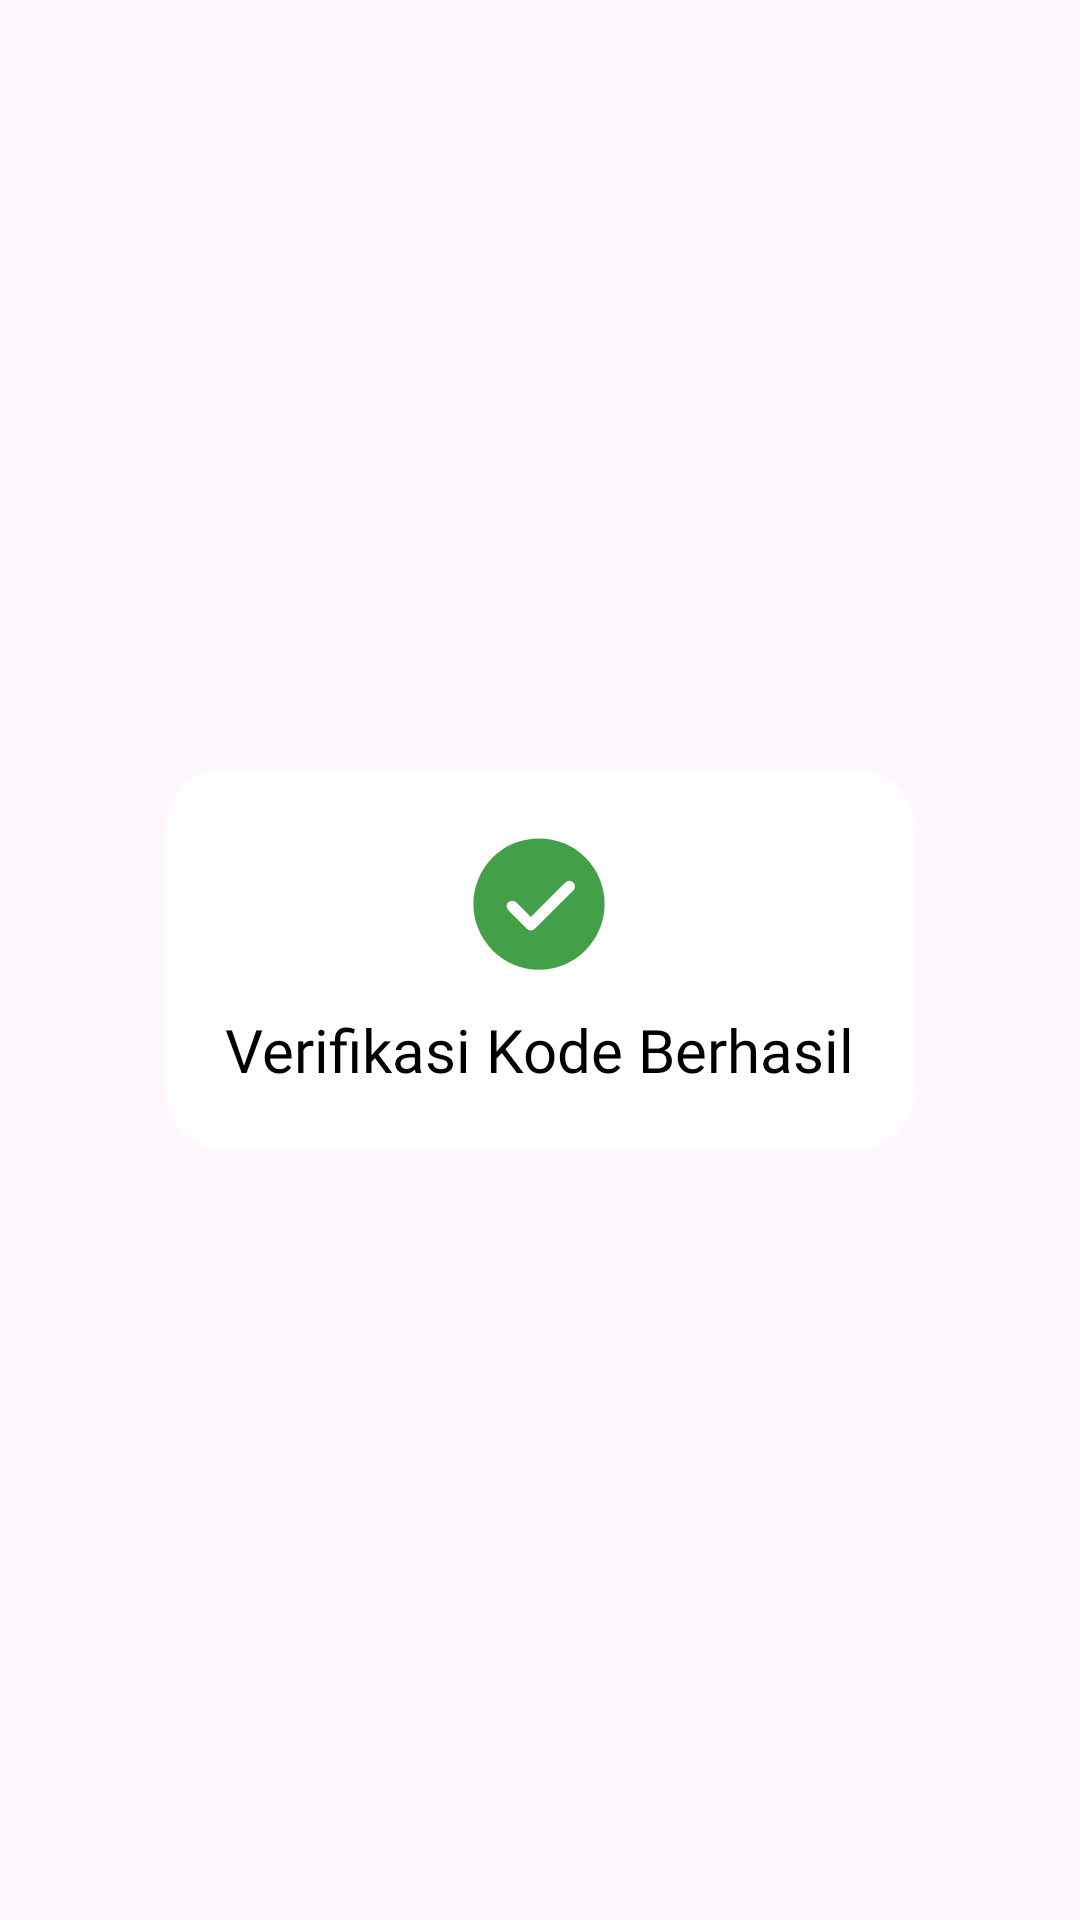

Icons on this 1080*1920 Android screen, each with the point to tap as (x=x, y=y):
success: (x=539, y=904)
